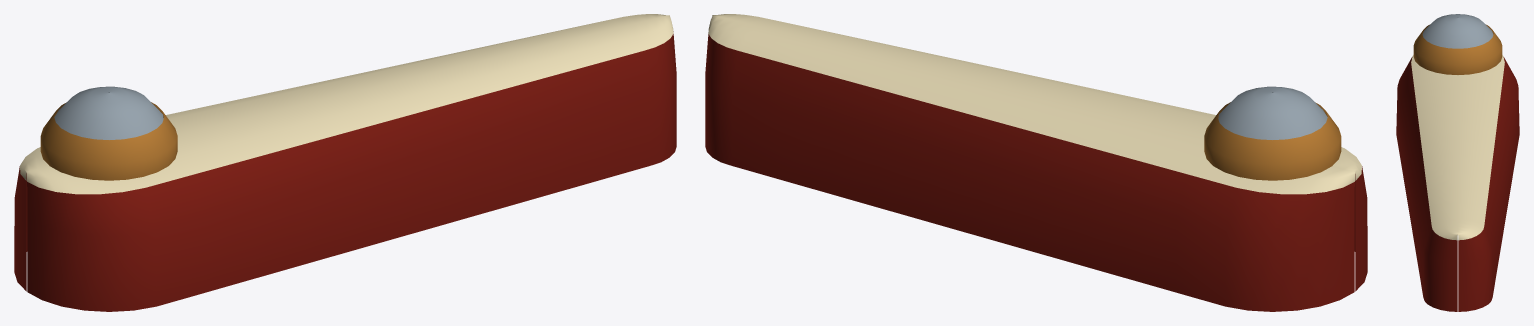
The model's file is flipper.dae.
3 renders of one model, left to right at view 1: azimuth 30°, elevation 25°; view 2: azimuth 150°, elevation 25°; view 3: azimuth 270°, elevation 25°, orthographic. The views are drawn at different scales.
Visible parts, largest first — view 1: flipper_rubber, flipper_art, accent, metal; view 2: flipper_rubber, flipper_art, accent, metal; view 3: flipper_rubber, flipper_art, accent, metal.
Boxes of the visible parts, x1,y1,x2,y2 form: flipper_rubber: (14,31,676,311); flipper_art: (20,14,673,194); accent: (40,102,177,180); metal: (54,86,163,139); flipper_rubber: (705,34,1367,311); flipper_art: (708,14,1361,194); accent: (1204,102,1341,180); metal: (1218,86,1327,139); flipper_rubber: (1396,57,1519,311); flipper_art: (1411,55,1504,240); accent: (1413,24,1502,74); metal: (1422,14,1493,48).
Bounding box in the file's own units: 1.25 × 0.333 × 0.32.
